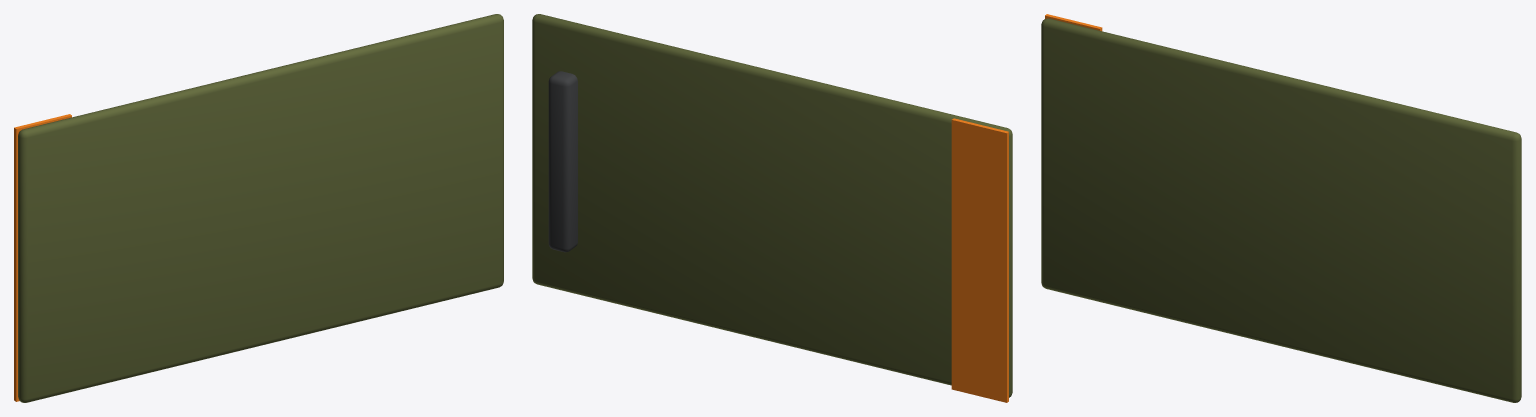
The model's file is puff_bow_left.glb.
3 views of the same model, side by side, from view 1: azimuth 30°, elevation 25°; view 2: azimuth 150°, elevation 25°; view 3: azimuth 330°, elevation 25° (orthographic).
Parts seen in each view (by area): view 1: puff_bow_left; view 2: puff_bow_left; view 3: puff_bow_left.
Part boxes in pixels (left/top/right/bottom): puff_bow_left: left=14, top=14, right=503, bottom=402; puff_bow_left: left=532, top=14, right=1012, bottom=402; puff_bow_left: left=1041, top=14, right=1521, bottom=402.
Bounding box in the file's own units: 0.26 × 0.14 × 0.015.
